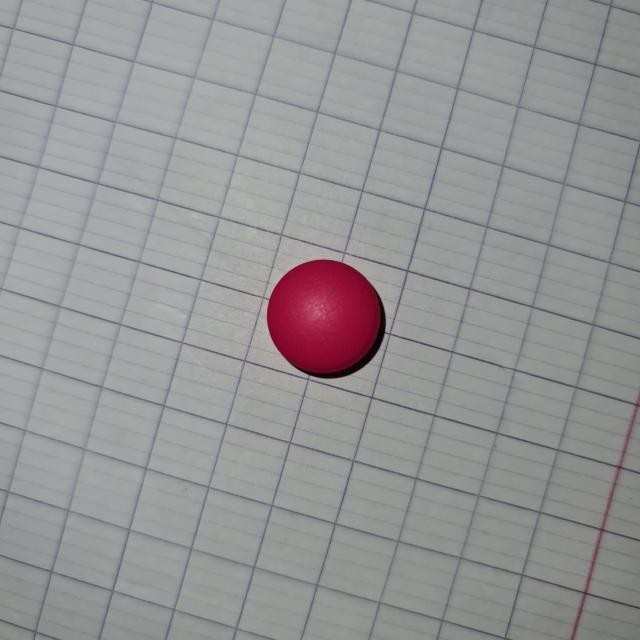pill: (265, 256, 388, 378)
